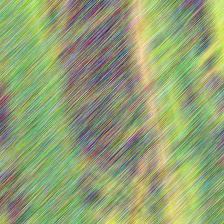Leaf_Blast: (127, 4, 173, 203)
